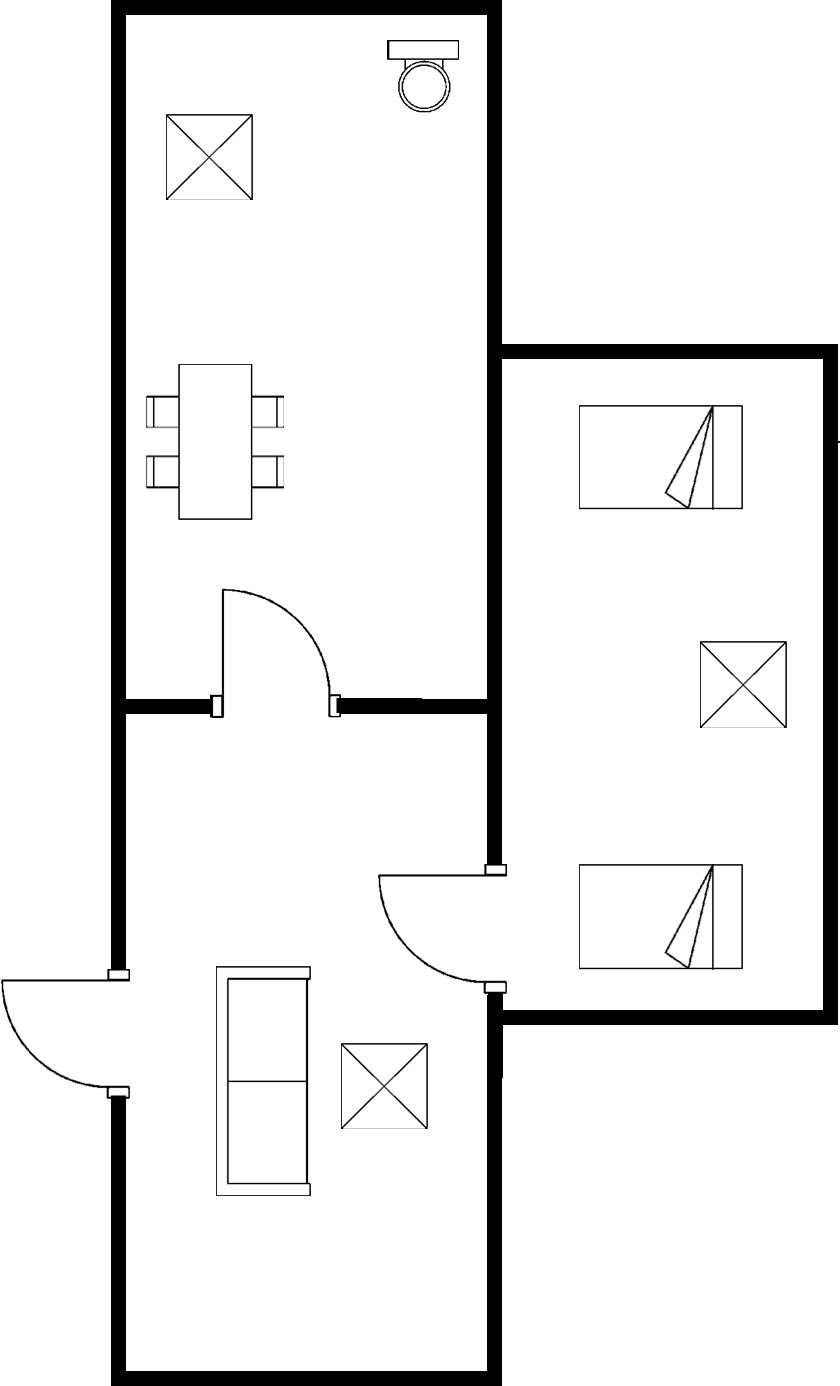bed: (568, 395, 754, 522), (568, 856, 753, 977)
coffee_table: (695, 633, 799, 737), (160, 106, 262, 209), (335, 1036, 437, 1137)
dining_table: (139, 357, 293, 526)
large_sink: (381, 34, 466, 119)
large_sofa: (207, 957, 319, 1210)
